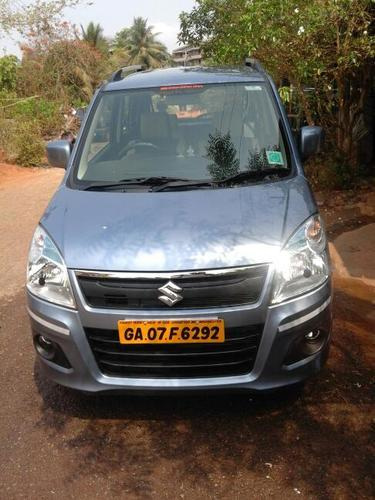numberplate: (114, 317, 226, 344)
